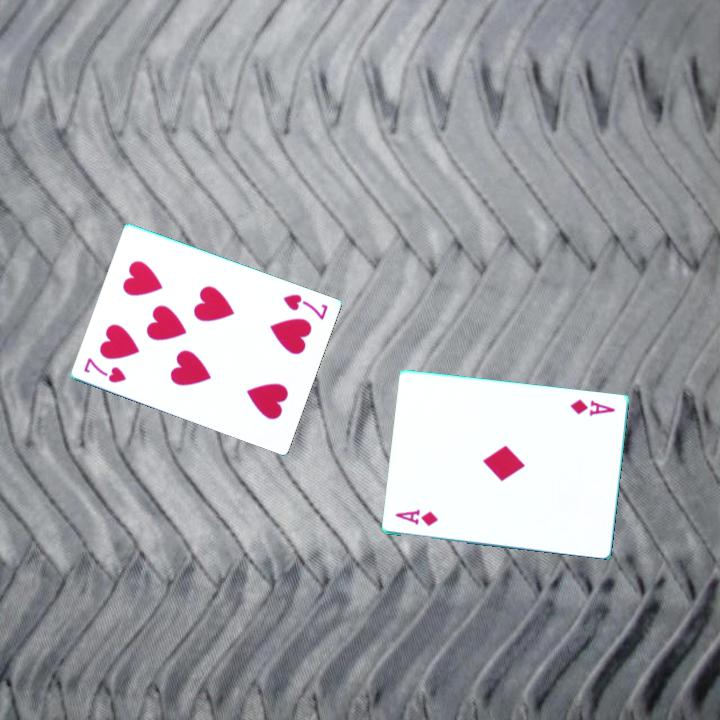7h: (280, 290, 331, 322), (81, 354, 130, 386)
Ad: (567, 395, 618, 419), (392, 507, 441, 529)
